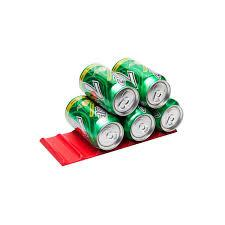beer: (64, 57, 188, 151)
